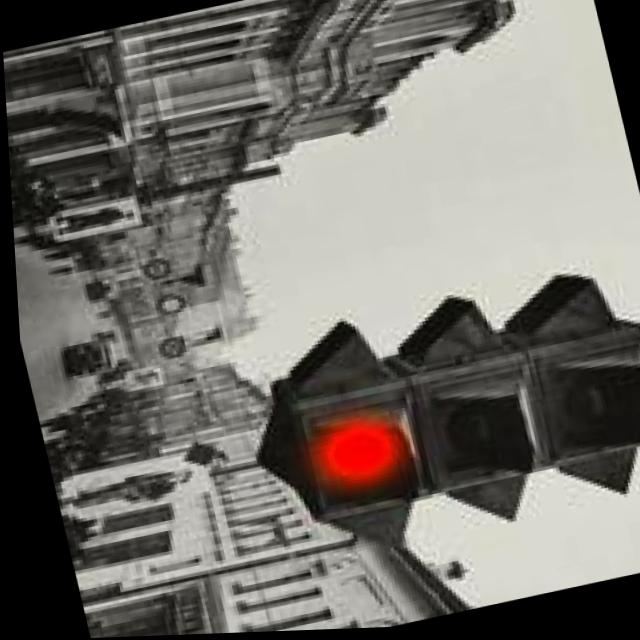red_light: (269, 312, 439, 542)
